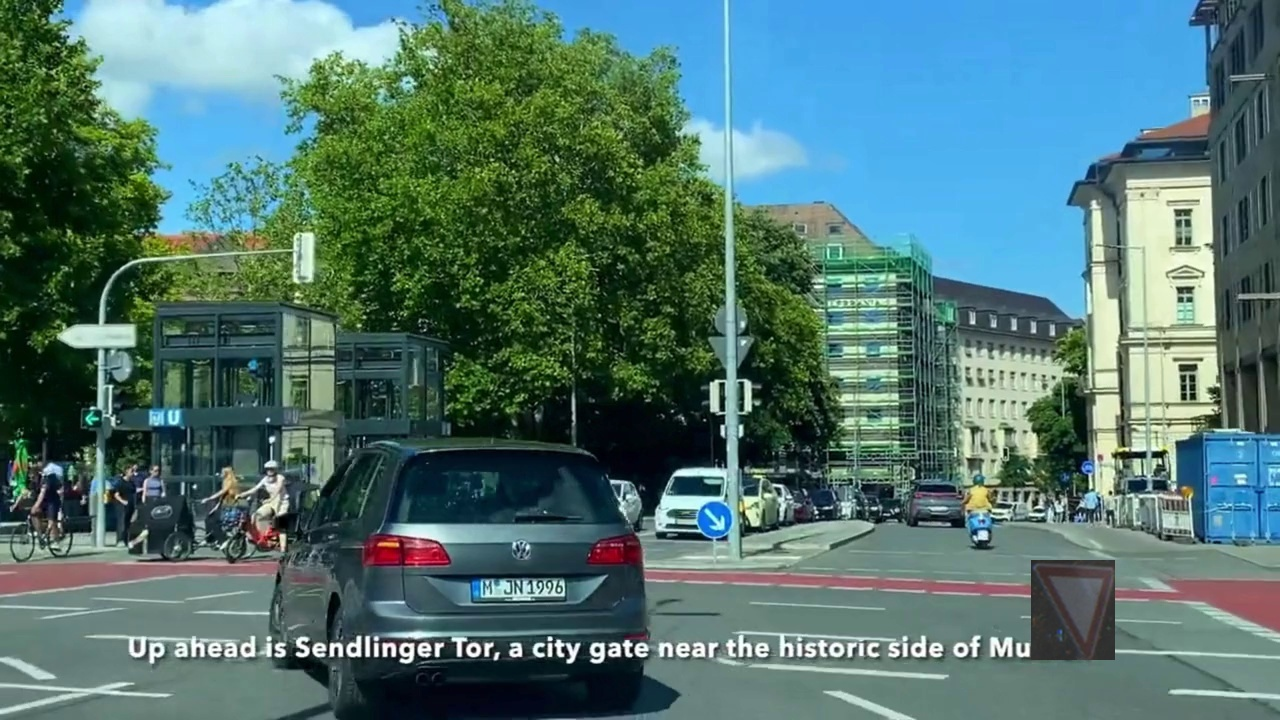Yield: (1031, 560, 1115, 660)
